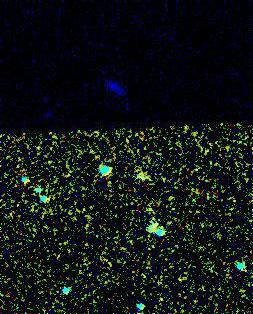star: (151, 283, 181, 313)
